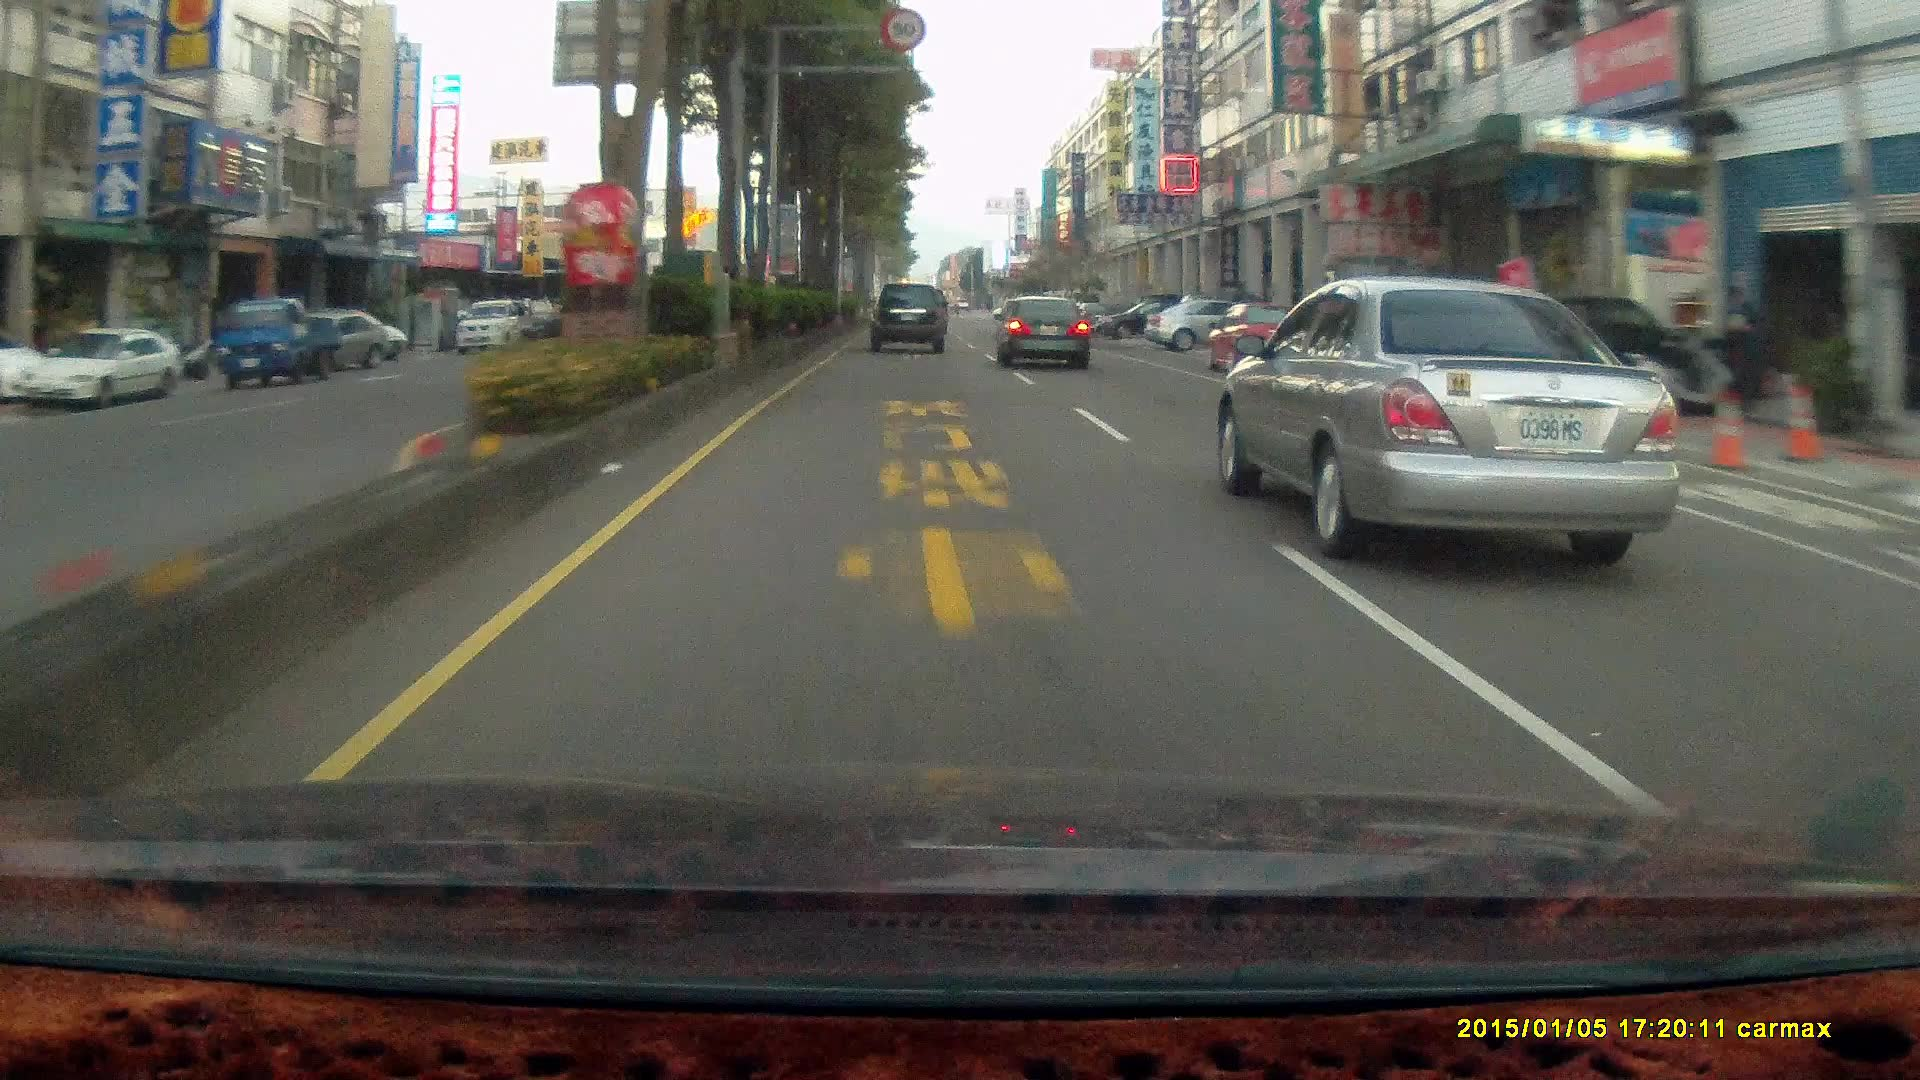vehicle: (1226, 286, 1704, 567), (1465, 291, 1691, 422), (12, 326, 179, 410), (215, 305, 351, 392), (29, 328, 178, 407), (214, 297, 340, 389), (1215, 310, 1324, 390), (1203, 302, 1311, 378), (1142, 295, 1274, 352), (997, 301, 1095, 377), (992, 295, 1091, 371), (272, 313, 386, 373), (868, 284, 949, 357), (866, 281, 945, 351), (454, 301, 527, 355), (1096, 298, 1193, 339), (0, 334, 44, 400)
